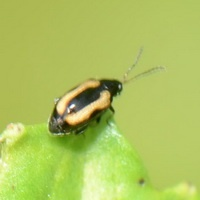insect: (48, 79, 121, 134)
